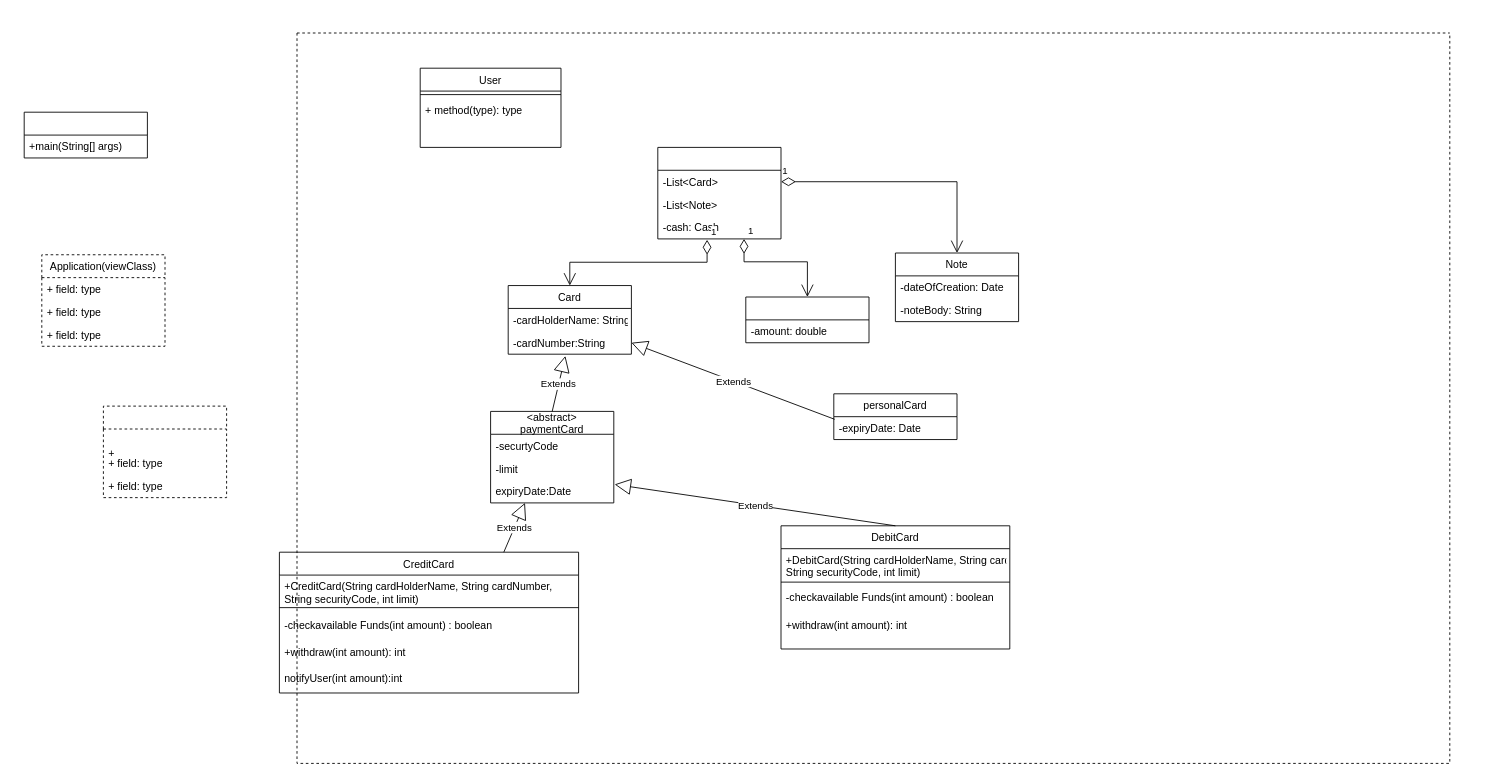
This 1508x779 diagram has some shape labels left out. Each missing label, with the box of its shape:
App: (23, 111, 147, 158)
Cash: (745, 296, 869, 343)
Controller: (103, 405, 227, 498)
E-Wallet: (657, 147, 781, 239)
